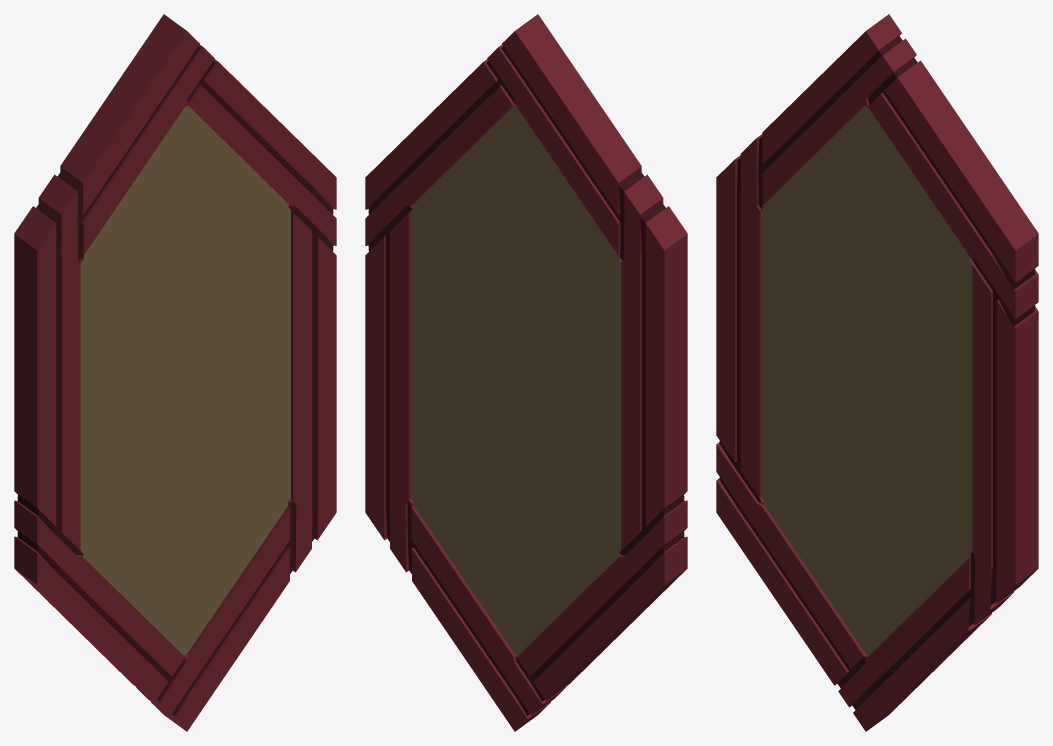
The model's file is guard_water.glb.
The picture shows the model from 3 angles, left to right: view 1: azimuth 30°, elevation 25°; view 2: azimuth 150°, elevation 25°; view 3: azimuth 330°, elevation 25°; orthographic projection.
Visible parts, largest first — view 1: Guard; view 2: Guard; view 3: Guard.
Part boxes in pixels (bbox=[...]): Guard: bbox=[14, 14, 336, 731]; Guard: bbox=[365, 14, 687, 731]; Guard: bbox=[716, 14, 1038, 731].
Size of the model in its own units: 0.0731 by 0.1637 by 0.00983.
